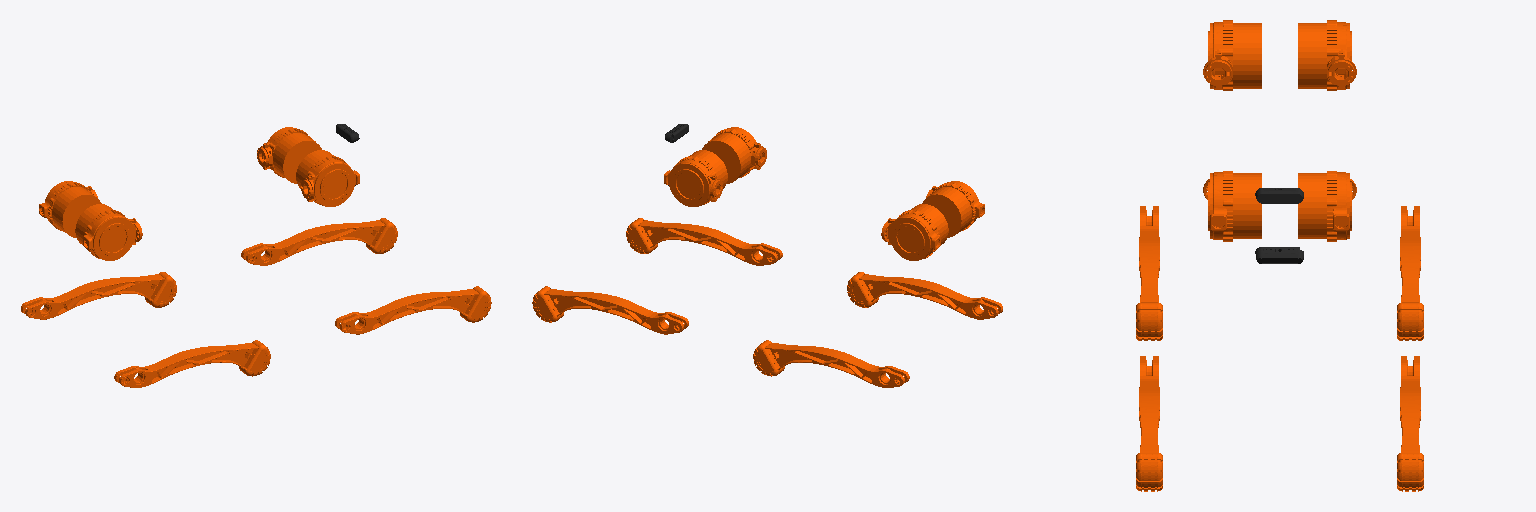
The robot description file, URDF, robot "robot":
<?xml version="1.0" ?>
<robot name="robot">
  <material name="black">
    <color rgba="0.0 0.0 0.0 1.0"/>
  </material>
  <material name="blue">
    <color rgba="0.0 0.0 0.8 1.0"/>
  </material>
  <material name="green">
    <color rgba="0.0 0.8 0.0 1.0"/>
  </material>
  <material name="grey">
    <color rgba="0.2 0.2 0.2 1.0"/>
  </material>
  <material name="silver">
    <color rgba="0.9137254901960784 0.9137254901960784 0.8470588235294118 1.0"/>
  </material>
  <material name="orange">
    <color rgba="1.0 0.4235294117647059 0.0392156862745098 1.0"/>
  </material>
  <material name="brown">
    <color rgba="0.8705882352941177 0.8117647058823529 0.7647058823529411 1.0"/>
  </material>
  <material name="red">
    <color rgba="0.8 0.0 0.0 1.0"/>
  </material>
  <material name="white">
    <color rgba="1.0 1.0 1.0 1.0"/>
  </material>
  <link name="base">
    <visual>
      <origin rpy="0 0 0" xyz="0 0 0"/>
      <geometry>
        <mesh filename="[local-path]/panda7/meshes/trunk.dae" scale="1 1 1"/>
      </geometry>
    </visual>
    <collision>
      <origin rpy="0 0 0" xyz="0 0 -0.0125"/>
      <geometry>
        <box size="0.49 0.32 0.235"/>
      </geometry>
    </collision>
    <!--<collision>
      <origin rpy="0 0 0" xyz="0.425 0 0.005"/>
      <geometry>
        <box size="0.05 0.27 0.200"/>
      </geometry> 
    </collision> 
    <collision>
      <origin rpy="0 0 0" xyz="-0.425 0 0.005"/>
      <geometry>
        <box size="0.05 0.27 0.200"/>
      </geometry>
    </collision> -->
    <inertial>
      <origin rpy="0 0 0" xyz="0.0014923112 -0.0014397771 -0.0094584260"/>
      <mass value="41.377848"/>
      <inertia ixx="0.47630359" ixy="-3.9611174E-03" ixz="0.020116265" iyy="1.8915135" iyz="-4.4176612E-03" izz="2.1035448"/>
    </inertial>
  </link>
    <link
    name="head_link">
    <inertial>
      <origin
        xyz="0.0 0.0 0.0"
        rpy="0 0 0" />
      <mass value="0.12"/>
      <inertia ixx="9.72e-05" ixy="0.0" ixz="0.0" iyy="9.72e-05" iyz="0.0" izz="9.72e-05"/>
    </inertial>
    <collision>
      <origin rpy="0 0 0" xyz="0.0 0.0 0.0"/>
      <geometry>
        <box size="0.05 0.27 0.180"/>
      </geometry>
    </collision>
  </link>
  <joint
    name="head_joint"
    type="fixed">
    <origin
      xyz="0.425 0 0.005"
      rpy="0 0 0" />
    <parent
      link="base" />
    <child
      link="head_link" />
    <axis
      xyz="0 0 0" />
  </joint>
    <link
    name="tail_link">
    <inertial>
      <origin
        xyz="0.0 0.0 0.0"
        rpy="0 0 0" />
      <mass value="0.12"/>
      <inertia ixx="9.72e-05" ixy="0.0" ixz="0.0" iyy="9.72e-05" iyz="0.0" izz="9.72e-05"/>
    </inertial>
    <collision>
      <origin rpy="0 0 0" xyz="0.0 0.0 0.0"/>
      <geometry>
        <box size="0.05 0.27 0.180"/>
      </geometry>
    </collision>
  </link>
  <joint
    name="tail_joint"
    type="fixed">
    <origin
      xyz="-0.425 0 0.005"
      rpy="0 0 0" />
    <parent
      link="base" />
    <child
      link="tail_link" />
    <axis
      xyz="0 0 0" />
  </joint>
    <link
    name="head_up_realsense_link">
    <inertial>
      <origin
        xyz="0.0 0.0 0.0"
        rpy="0 0 0" />
      <mass
        value="4.19E-15" />
      <inertia
        ixx="1.68E-27"
        ixy="0.0"
        ixz="0.0"
        iyy="1.68E-27"
        iyz="0.0"
        izz="1.68E-27" />
    </inertial>
    <visual>
      <origin rpy="0 0 0" xyz="0 0 0"/>
      <geometry>
        <mesh filename="../meshes/d435i.dae" scale="1 1 1"/>
      </geometry>
      <material name="grey"/>
    </visual>
  </link>
  <joint
    name="head_up_realsense_joint"
    type="fixed">
    <origin
      xyz="0.4462 0 0.071"
      rpy="-1.57 0 -1.57" />
    <parent
      link="base" />
    <child
      link="head_up_realsense_link" />
    <axis
      xyz="0 0 0" />
  </joint>
  <link
    name="head_up_realsense_link_2">
    <inertial>
      <origin
        xyz="0.0 0.0 0.0"
        rpy="0 0 0" />
      <mass
        value="4.19E-15" />
      <inertia
        ixx="1.68E-27"
        ixy="0.0"
        ixz="0.0"
        iyy="1.68E-27"
        iyz="0.0"
        izz="1.68E-27" />
    </inertial>
    <visual>
      <origin rpy="0 0 0" xyz="0 0 0"/>
      <geometry>
        <mesh filename="../meshes/d435i.dae" scale="1 1 1"/>
      </geometry>
      <material name="grey"/>
    </visual>
  </link>
  <joint
    name="head_up_realsense_joint_2"
    type="fixed">
    <origin
      xyz="0.4462 0 0.071"
      rpy="-1.57 0 -1.57" />
    <parent
      link="base" />
    <child
      link="head_up_realsense_link_2" />
    <axis
      xyz="0 0 0" />
  </joint>
  <link
    name="head_down_realsense_link">
    <inertial>
      <origin
        xyz="0.0 0.0 0.0"
        rpy="0 0 0" />
      <mass
        value="4.19E-15" />
      <inertia
        ixx="1.68E-27"
        ixy="0.0"
        ixz="0.0"
        iyy="1.68E-27"
        iyz="0.0"
        izz="1.68E-27" />
    </inertial>
    <visual>
      <origin rpy="0 0 0" xyz="0 0 0"/>
      <geometry>
        <mesh filename="../meshes/d435i.dae" scale="1 1 1"/>
      </geometry>
      <material name="grey"/>
    </visual>
  </link>
  <joint
    name="head_down_realsense_joint"
    type="fixed">
    <origin
      xyz="0.44048 0 -0.057"
      rpy="-2.0761 0 -1.57" />
    <parent
      link="base" />
    <child
      link="head_down_realsense_link" />
    <axis
      xyz="0 0 0" />
  </joint>
  <joint name="FR_hip_joint" type="revolute">
    <origin rpy="0 0 0" xyz="0.325 -0.1125 0"/>
    <parent link="base"/>
    <child link="FR_hip"/>
    <axis xyz="1 0 0"/>
    <dynamics damping="0" friction="0" armature="0.035521"/>
    <limit effort="160" lower="-0.87" upper="0.69" velocity="19.3"/>
  </joint>
  <link name="FR_hip">
    <visual>
      <origin rpy="3.141592653589793 0 0" xyz="0 0 0"/>
      <geometry>
        <mesh filename="../meshes/hip.dae" scale="1 1 1"/>
      </geometry>
      <material name="orange"/>
    </visual>
    <!--<collision>
      <origin rpy="1.57 0 0" xyz="0 0.035 0"/>
      <geometry>
        <cylinder radius="0.065" length="0.08"/>
      </geometry>
    </collision>-->
    <inertial>
      <origin rpy="0 0 0" xyz="-0.0011794 0.02693 -5.8859E-07"/>
      <mass value="2.7264"/>
      <inertia ixx="0.0043529" ixy="7.7592E-06" ixz="-9.9737E-09" iyy="0.0056391" iyz="1.7393E-08" izz="0.0047569"/>
    </inertial>
  </link>
  <joint name="FR_thigh_joint" type="revolute">
    <origin rpy="0 0 0" xyz="0 -0.126375 0"/>
    <parent link="FR_hip"/>
    <child link="FR_thigh"/>
    <axis xyz="0 1 0"/>
    <dynamics damping="0" friction="0" armature="0.022005"/>
    <limit effort="180" lower="-1.78" upper="3.40" velocity="21.6"/>
  </joint>
  <link name="FR_thigh">
    <visual>
      <origin rpy="0 0 0" xyz="0 0 0"/>
      <geometry>
        <mesh filename="../meshes/thigh_mirror.dae" scale="1 1 1"/>
      </geometry>
      <material name="orange"/>
    </visual>
    <collision>
      <origin rpy="1.57 0 0" xyz="0 0.046 0"/>
      <geometry>
        <cylinder radius="0.067" length="0.129"/>
      </geometry>
    </collision>
    <collision>
      <origin rpy="0 0 0" xyz="-0.026 0 -0.18"/>
      <geometry>
        <box size="0.060 0.04 0.21"/>
      </geometry>
    </collision>
    <inertial>
      <origin rpy="0 0 0" xyz="0.008023 0.0407086 -0.0477057"/>
      <mass value="4.5843711"/>
      <inertia ixx="0.0568903" ixy="-1.3859024E-03" ixz="-0.0040888" iyy="0.055707534" iyz="-0.0090795" izz="0.0119193"/>
    </inertial>
  </link>
  <joint name="FR_calf_joint" type="revolute">
    <origin rpy="0 0 0" xyz="0 0 -0.34"/>
    <parent link="FR_thigh"/>
    <child link="FR_calf"/>
    <axis xyz="0 1 0"/>
    <dynamics damping="0" friction="0" armature="0.1289359"/>
    <limit effort="452" lower="-2.53" upper="-0.45" velocity="18.8"/>
  </joint>
  <link name="FR_calf">
    <visual>
      <origin rpy="0 0 0" xyz="0 0 0"/>
      <geometry>
        <mesh filename="../meshes/calf.dae" scale="1 1 1"/>
      </geometry>
      <material name="orange"/>
    </visual>
    <collision>
      <origin rpy="0 1.5707963267948966 0" xyz="0.0 0 -0.17"/>
      <geometry>
        <box size="0.25 0.04 0.0495"/>
      </geometry>
    </collision>
    <collision>
      <origin rpy="1.57 0 0" xyz="-0.004 0 0"/>
      <geometry>
        <cylinder radius="0.023" length="0.054"/>
      </geometry>
    </collision>
    <collision>
      <origin rpy="1.57 0 0" xyz="-0.001 0 0.04"/>
      <geometry>
        <cylinder radius="0.0146" length="0.03"/>
      </geometry>
    </collision>
    <inertial>
      <origin rpy="0 0 0" xyz="-4.1136934E-03 -2.2641006E-06 -0.18227639"/>
      <mass value="0.82150729"/>
      <inertia ixx="0.017546212" ixy="-2.5076089E-09" ixz="-3.8977294E-05" iyy="0.017775449" iyz="-3.0610477E-07" izz="4.2961251E-04"/>
    </inertial>
  </link>
  <joint name="FR_foot_fixed" type="fixed" dont_collapse="true">
    <origin rpy="0 0 0" xyz="0 0 -0.34"/>
    <parent link="FR_calf"/>
    <child link="FR_FOOT"/>
  </joint>
  <link name="FR_FOOT">
    <collision>
      <origin rpy="0 0 0" xyz="0 0 0"/>
      <geometry>
        <sphere radius="0.045"/>
      </geometry>
    </collision>
    <inertial>
      <mass value="0.12"/>
      <inertia ixx="9.72e-05" ixy="0.0" ixz="0.0" iyy="9.72e-05" iyz="0.0" izz="9.72e-05"/>
    </inertial>
  </link>
  <joint name="FL_hip_joint" type="revolute">
    <origin rpy="0 0 0" xyz="0.325 0.1125 0"/>
    <parent link="base"/>
    <child link="FL_hip"/>
    <axis xyz="1 0 0"/>
    <dynamics damping="0" friction="0" armature="0.035521"/>
    <limit effort="160" lower="-0.69" upper="0.87" velocity="19.3"/>
  </joint>
  <link name="FL_hip">
    <visual>
      <origin rpy="0 0 0" xyz="0 0 0"/>
      <geometry>
        <mesh filename="../meshes/hip.dae" scale="1 1 1"/>
      </geometry>
      <material name="orange"/>
    </visual>
    <!--<collision>
      <origin rpy="1.57 0 0" xyz="0 -0.035 0"/>
      <geometry>
        <cylinder radius="0.065" length="0.08"/>
      </geometry>
    </collision>-->
    <inertial>
      <origin rpy="0 0 0" xyz="-0.0011794 -0.02693 5.8859E-07"/>
      <mass value="2.7264"/>
      <inertia ixx="0.0043529" ixy="-7.7592E-06" ixz="9.9737E-09" iyy="0.0056391" iyz="1.7393E-08" izz="0.0047569"/>
    </inertial>
  </link>
  <joint name="FL_thigh_joint" type="revolute">
    <origin rpy="0 0 0" xyz="0 0.126375 0"/>
    <parent link="FL_hip"/>
    <child link="FL_thigh"/>
    <axis xyz="0 1 0"/>
    <dynamics damping="0" friction="0" armature="0.022005" />
    <limit effort="180" lower="-1.78" upper="3.40" velocity="21.6"/>
  </joint>
  <link name="FL_thigh">
    <visual>
      <origin rpy="0 0 0" xyz="0 0 0"/>
      <geometry>
        <mesh filename="../meshes/thigh.dae" scale="1 1 1"/>
      </geometry>
      <material name="orange"/>
    </visual>
    <collision>
      <origin rpy="1.57 0 0" xyz="0 -0.046 0"/>
      <geometry>
        <cylinder radius="0.067" length="0.129"/>
      </geometry>
    </collision>
    <collision>
      <origin rpy="0 0 0" xyz="-0.026 0 -0.18"/>
      <geometry>
        <box size="0.060 0.04 0.21"/>
      </geometry>
    </collision>
    <inertial>
      <origin rpy="0 0 0" xyz="0.008023 -0.0407086 -0.0477057"/>
      <mass value="4.5843711"/>
      <inertia ixx="0.0568903" ixy="1.3859024E-03" ixz="-0.0040888" iyy="0.055707534" iyz="0.0090795" izz="0.0119193"/>
    </inertial>
  </link>
  <joint name="FL_calf_joint" type="revolute">
    <origin rpy="0 0 0" xyz="0 0 -0.34"/>
    <parent link="FL_thigh"/>
    <child link="FL_calf"/>
    <axis xyz="0 1 0"/>
    <dynamics damping="0" friction="0" armature="0.1289359"/>
    <limit effort="452" lower="-2.53" upper="-0.45" velocity="18.8"/>
  </joint>
  <link name="FL_calf">
    <visual>
      <origin rpy="0 0 0" xyz="0 0 0"/>
      <geometry>
        <mesh filename="../meshes/calf.dae" scale="1 1 1"/>
      </geometry>
      <material name="orange"/>
    </visual>
    <collision>
      <origin rpy="0 1.5707963267948966 0" xyz="0.0 0 -0.17"/>
      <geometry>
        <box size="0.25 0.04 0.0495"/>
      </geometry>
    </collision>
    <collision>
      <origin rpy="1.57 0 0" xyz="-0.004 0 0"/>
      <geometry>
        <cylinder radius="0.023" length="0.054"/>
      </geometry>
    </collision>
    <collision>
      <origin rpy="1.57 0 0" xyz="-0.001 0 0.04"/>
      <geometry>
        <cylinder radius="0.0146" length="0.03"/>
      </geometry>
    </collision>
    <inertial>
      <origin rpy="0 0 0" xyz="-4.1136934E-03 2.2641006E-06 -0.18227639"/>
      <mass value="0.82150729"/>
      <inertia ixx="0.017546212" ixy="-2.5076089E-09" ixz="3.8977294E-05" iyy="0.017775449" iyz="3.0610477E-07" izz="4.2961251E-04"/>
    </inertial>
  </link>
  <joint name="FL_foot_fixed" type="fixed" dont_collapse="true">
    <origin rpy="0 0 0" xyz="0 0 -0.34"/>
    <parent link="FL_calf"/>
    <child link="FL_FOOT"/>
  </joint>
  <link name="FL_FOOT">
    <collision>
      <origin rpy="0 0 0" xyz="0 0 0"/>
      <geometry>
        <sphere radius="0.045"/>
      </geometry>
    </collision>
    <inertial>
      <mass value="0.12"/>
      <inertia ixx="9.72e-05" ixy="0.0" ixz="0.0" iyy="9.72e-05" iyz="0.0" izz="9.72e-05"/>
    </inertial>
  </link>
  <joint name="RR_hip_joint" type="revolute">
    <origin rpy="0 0 0" xyz="-0.325 -0.1125 0"/>
    <parent link="base"/>
    <child link="RR_hip"/>
    <axis xyz="1 0 0"/>
    <dynamics damping="0" friction="0" armature="0.035521"/>
    <limit effort="160" lower="-0.87" upper="0.69" velocity="19.3"/>
  </joint>
  <link name="RR_hip">
    <visual>
      <origin rpy="3.141592653589793 3.141592653589793 0" xyz="0 0 0"/>
      <geometry>
        <mesh filename="../meshes/hip.dae" scale="1 1 1"/>
      </geometry>
      <material name="orange"/>
    </visual>
    <!--<collision>
      <origin rpy="1.57 0 0" xyz="0 0.035 0"/>
      <geometry>
        <cylinder radius="0.065" length="0.08"/>
      </geometry>
    </collision>-->
    <inertial>
      <origin rpy="0 0 0" xyz="0.0011794 0.02693 5.8859E-07"/>
      <mass value="2.7264"/>
      <inertia ixx="0.0043529" ixy="-7.7592E-06" ixz="-9.9737E-09" iyy="0.0056391" iyz="-1.7393E-08" izz="0.0047569"/>
    </inertial>
  </link>
  <joint name="RR_thigh_joint" type="revolute">
    <origin rpy="0 0 0" xyz="0 -0.126375 0"/>
    <parent link="RR_hip"/>
    <child link="RR_thigh"/>
    <axis xyz="0 1 0"/>
    <dynamics damping="0" friction="0" armature="0.022005"/>
    <limit effort="180" lower="-1.30" upper="4.00" velocity="21.6"/>
  </joint>
  <link name="RR_thigh">
    <visual>
      <origin rpy="0 0 0" xyz="0 0 0"/>
      <geometry>
        <mesh filename="../meshes/thigh_mirror.dae" scale="1 1 1"/>
      </geometry>
      <material name="orange"/>
    </visual>
    <collision>
      <origin rpy="1.57 0 0" xyz="0 0.046 0"/>
      <geometry>
        <cylinder radius="0.067" length="0.129"/>
      </geometry>
    </collision>
    <collision>
      <origin rpy="0 0 0" xyz="-0.026 0 -0.18"/>
      <geometry>
        <box size="0.060 0.04 0.21"/>
      </geometry>
    </collision>
    <inertial>
      <origin rpy="0 0 0" xyz="0.008023 0.0407086 -0.0477057"/>
      <mass value="4.5843711"/>
      <inertia ixx="0.0568903" ixy="-1.3859024E-03" ixz="-0.0040888" iyy="0.055707534" iyz="-0.0090795" izz="0.0119193"/>
    </inertial>
  </link>
  <joint name="RR_calf_joint" type="revolute">
    <origin rpy="0 0 0" xyz="0 0 -0.34"/>
    <parent link="RR_thigh"/>
    <child link="RR_calf"/>
    <axis xyz="0 1 0"/>
    <dynamics damping="0" friction="0" armature="0.1289359"/>
    <limit effort="452" lower="-2.53" upper="-0.45" velocity="18.8"/>
  </joint>
  <link name="RR_calf">
    <visual>
      <origin rpy="0 0 0" xyz="0 0 0"/>
      <geometry>
        <mesh filename="../meshes/calf.dae" scale="1 1 1"/>
      </geometry>
      <material name="orange"/>
    </visual>
    <collision>
      <origin rpy="0 1.5707963267948966 0" xyz="0.0 0 -0.17"/>
      <geometry>
        <box size="0.25 0.04 0.0495"/>
      </geometry>
    </collision>
    <collision>
      <origin rpy="1.57 0 0" xyz="-0.004 0 0"/>
      <geometry>
        <cylinder radius="0.023" length="0.054"/>
      </geometry>
    </collision>
    <collision>
      <origin rpy="1.57 0 0" xyz="-0.001 0 0.04"/>
      <geometry>
        <cylinder radius="0.0146" length="0.03"/>
      </geometry>
    </collision>
    <inertial>
      <origin rpy="0 0 0" xyz="-4.1136934E-03 -2.2641006E-06 -0.18227639"/>
      <mass value="0.82150729"/>
      <inertia ixx="0.017546212" ixy="-2.5076089E-09" ixz="-3.8977294E-05" iyy="0.017775449" iyz="-3.0610477E-07" izz="4.2961251E-04"/>
    </inertial>
  </link>
  <joint name="RR_foot_fixed" type="fixed" dont_collapse="true">
    <origin rpy="0 0 0" xyz="0 0 -0.34"/>
    <parent link="RR_calf"/>
    <child link="RR_FOOT"/>
  </joint>
  <link name="RR_FOOT">
    <collision>
      <origin rpy="0 0 0" xyz="0 0 0"/>
      <geometry>
        <sphere radius="0.045"/>
      </geometry>
    </collision>
    <inertial>
      <mass value="0.12"/>
      <inertia ixx="9.72e-05" ixy="0.0" ixz="0.0" iyy="9.72e-05" iyz="0.0" izz="9.72e-05"/>
    </inertial>
  </link>
  <joint name="RL_hip_joint" type="revolute">
    <origin rpy="0 0 0" xyz="-0.325 0.1125 0"/>
    <parent link="base"/>
    <child link="RL_hip"/>
    <axis xyz="1 0 0"/>
    <dynamics damping="0" friction="0" armature="0.035521"/>
    <limit effort="160" lower="-0.69" upper="0.87" velocity="19.3"/>
  </joint>
  <link name="RL_hip">
    <visual>
      <origin rpy="0 3.141592653589793 0" xyz="0 0 0"/>
      <geometry>
        <mesh filename="../meshes/hip.dae" scale="1 1 1"/>
      </geometry>
      <material name="orange"/>
    </visual>
    <!--<collision>
      <origin rpy="1.57 0 0" xyz="0 -0.035 0"/>
      <geometry>
        <cylinder radius="0.065" length="0.08"/>
      </geometry>
    </collision>-->
    <inertial>
      <origin rpy="0 0 0" xyz="0.0011794 -0.02693 -5.8859E-07"/>
      <mass value="2.7264"/>
      <inertia ixx="0.0043529" ixy="7.7592E-06" ixz="9.9737E-09" iyy="0.0056391" iyz="-1.7393E-08" izz="0.0047569"/>
    </inertial>
  </link>
  <joint name="RL_thigh_joint" type="revolute">
    <origin rpy="0 0 0" xyz="0 0.126375 0"/>
    <parent link="RL_hip"/>
    <child link="RL_thigh"/>
    <axis xyz="0 1 0"/>
    <dynamics damping="0" friction="0" armature="0.022005"/>
    <limit effort="180" lower="-1.30" upper="4.00" velocity="21.6"/>
  </joint>
  <link name="RL_thigh">
    <visual>
      <origin rpy="0 0 0" xyz="0 0 0"/>
      <geometry>
        <mesh filename="../meshes/thigh.dae" scale="1 1 1"/>
      </geometry>
      <material name="orange"/>
    </visual>
    <collision>
      <origin rpy="1.57 0 0" xyz="0 -0.046 0"/>
      <geometry>
        <cylinder radius="0.067" length="0.129"/>
      </geometry>
    </collision>
    <collision>
      <origin rpy="0 0 0" xyz="-0.026 0 -0.18"/>
      <geometry>
        <box size="0.060 0.04 0.21"/>
      </geometry>
    </collision>
    <inertial>
      <origin rpy="0 0 0" xyz="0.008023 -0.0407086 -0.0477057"/>
      <mass value="4.5843711"/>
      <inertia ixx="0.0568903" ixy="1.3859024E-03" ixz="-0.0040888" iyy="0.055707534" iyz="0.0090795" izz="0.0119193"/>
    </inertial>
  </link>
  <joint name="RL_calf_joint" type="revolute">
    <origin rpy="0 0 0" xyz="0 0 -0.34"/>
    <parent link="RL_thigh"/>
    <child link="RL_calf"/>
    <axis xyz="0 1 0"/>
    <dynamics damping="0" friction="0" armature="0.1289359"/>
    <limit effort="452" lower="-2.53" upper="-0.45" velocity="18.8"/>
  </joint>
  <link name="RL_calf">
    <visual>
      <origin rpy="0 0 0" xyz="0 0 0"/>
      <geometry>
        <mesh filename="../meshes/calf.dae" scale="1 1 1"/>
      </geometry>
      <material name="orange"/>
    </visual>
    <collision>
      <origin rpy="0 1.5707963267948966 0" xyz="0.0 0 -0.17"/>
      <geometry>
        <box size="0.25 0.04 0.0495"/>
      </geometry>
    </collision>
    <collision>
      <origin rpy="1.57 0 0" xyz="-0.004 0 0"/>
      <geometry>
        <cylinder radius="0.023" length="0.054"/>
      </geometry>
    </collision>
    <collision>
      <origin rpy="1.57 0 0" xyz="-0.001 0 0.04"/>
      <geometry>
        <cylinder radius="0.0146" length="0.03"/>
      </geometry>
    </collision>
    <inertial>
      <origin rpy="0 0 0" xyz="-4.1136934E-03 2.2641006E-06 -0.18227639"/>
      <mass value="0.82150729"/>
      <inertia ixx="0.017546212" ixy="-2.5076089E-09" ixz="3.8977294E-05" iyy="0.017775449" iyz="3.0610477E-07" izz="4.2961251E-04"/>
    </inertial>
  </link>
  <joint name="RL_foot_fixed" type="fixed" dont_collapse="true">
    <origin rpy="0 0 0" xyz="0 0 -0.34"/>
    <parent link="RL_calf"/>
    <child link="RL_FOOT"/>
  </joint>
  <link name="RL_FOOT">
    <collision>
      <origin rpy="0 0 0" xyz="0 0 0"/>
      <geometry>
        <sphere radius="0.045"/>
      </geometry>
    </collision>
    <inertial>
      <mass value="0.12"/>
      <inertia ixx="9.72e-05" ixy="0.0" ixz="0.0" iyy="9.72e-05" iyz="0.0" izz="9.72e-05"/>
    </inertial>
  </link>
</robot>

--- Facts derived from the render (not from the file) ---
3 views of the same robot in one strip: view 1: azimuth 30°, elevation 25°; view 2: azimuth 150°, elevation 25°; view 3: azimuth 270°, elevation 25° (orthographic).
Model robot with 22 links and 21 joints (12 revolute, 9 fixed), rooted at base, posed all joints at 0 but 4 set to mid-range because 0 is outside their limits (FR_calf_joint = -1.49, FL_calf_joint = -1.49, RR_calf_joint = -1.49, RL_calf_joint = -1.49).
Visible links, largest first — view 1: FR_calf, FL_calf, RR_calf, RL_calf, RR_hip, FR_hip, FL_hip, RL_hip; view 2: FR_calf, FL_calf, RL_calf, RR_calf, RL_hip, FL_hip, FR_hip, RR_hip; view 3: RR_hip, RL_hip, FL_hip, FR_hip, FR_calf, FL_calf, RR_calf, RL_calf, head_down_realsense_link, head_up_realsense_link.
Link boxes in pixels (x1,y1,x2,y2): FR_calf: [335, 286, 491, 334]; FL_calf: [241, 218, 397, 265]; RR_calf: [114, 340, 270, 387]; RL_calf: [21, 272, 176, 319]; RR_hip: [75, 204, 142, 260]; FR_hip: [296, 150, 359, 206]; FL_hip: [257, 127, 321, 183]; RL_hip: [39, 181, 101, 237]; FR_calf: [626, 218, 782, 265]; FL_calf: [532, 286, 688, 334]; RL_calf: [753, 340, 909, 387]; RR_calf: [847, 272, 1002, 319]; RL_hip: [881, 204, 948, 260]; FL_hip: [664, 150, 727, 206]; FR_hip: [702, 127, 766, 183]; RR_hip: [922, 181, 984, 237]; RR_hip: [1203, 20, 1261, 90]; RL_hip: [1298, 20, 1356, 90]; FL_hip: [1298, 171, 1356, 241]; FR_hip: [1203, 171, 1261, 241]; FR_calf: [1136, 356, 1162, 491]; FL_calf: [1397, 356, 1423, 491]; RR_calf: [1136, 206, 1162, 340]; RL_calf: [1397, 206, 1423, 340]; head_down_realsense_link: [1255, 247, 1303, 263]; head_up_realsense_link: [1255, 188, 1303, 203].
Bounding box of the posed robot: 1.11 × 0.5277 × 0.4961 m (x, y, z).
Meshes: 5 distinct files referenced, 11 mesh visuals loaded (3 Collada DAE); not drawn: 4 (reference not matched to a file when rendering), 1 (reference in a form the renderer does not follow; not among the files counted above).